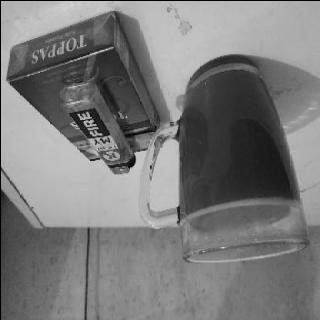objects: (4, 10, 160, 162)
